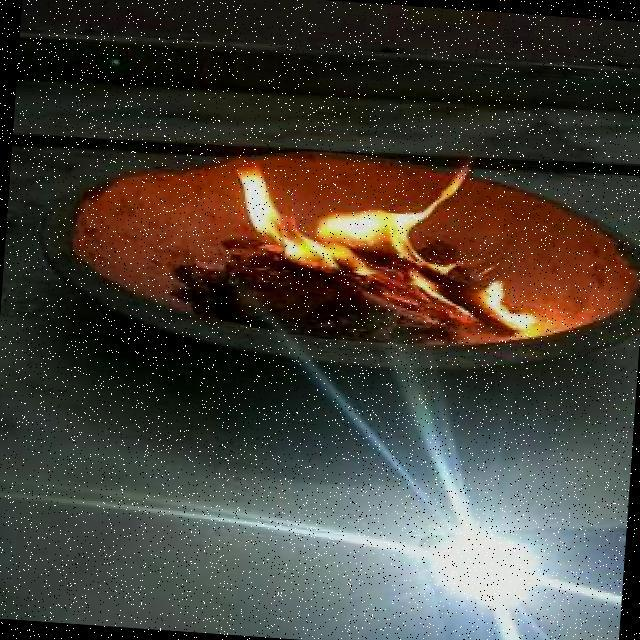Fire: (227, 144, 552, 335)
